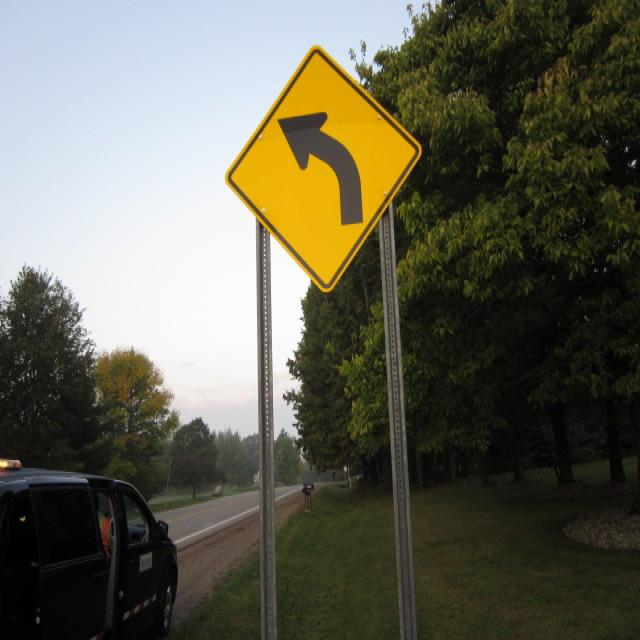warning: (226, 45, 424, 293)
